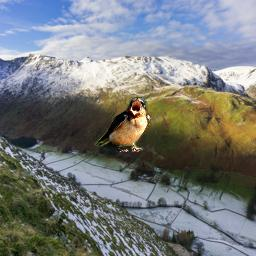Swallow: (94, 97, 151, 152)
